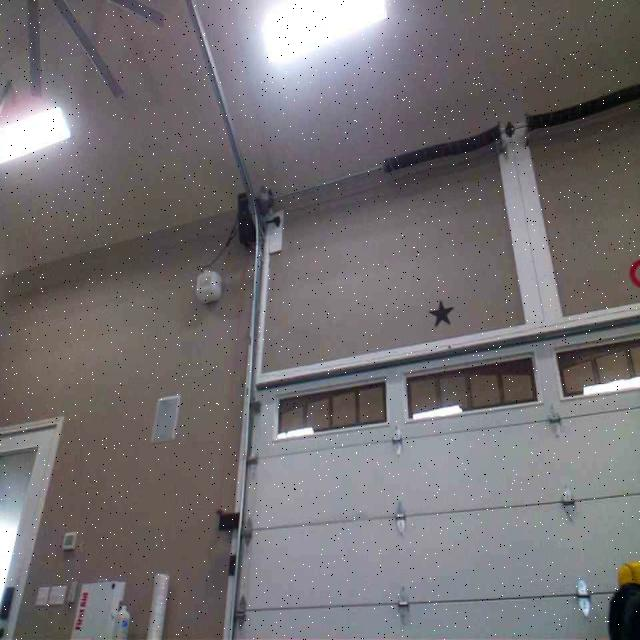star_black: (429, 299, 452, 325)
